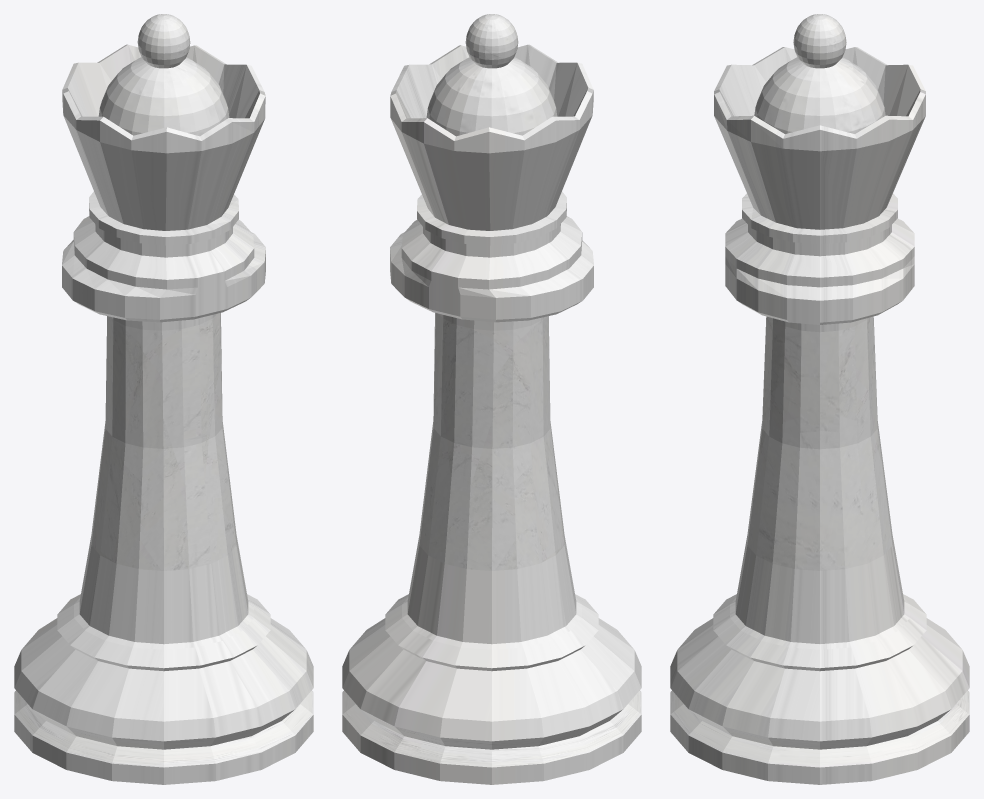
Rendered from w_queen.obj.
The picture shows the model from 3 angles, left to right: view 1: azimuth 30°, elevation 25°; view 2: azimuth 150°, elevation 25°; view 3: azimuth 270°, elevation 25°; orthographic projection.
Bounding box in the file's own units: 0.1443 × 0.3758 × 0.1422.
1 material, 1 textured.
